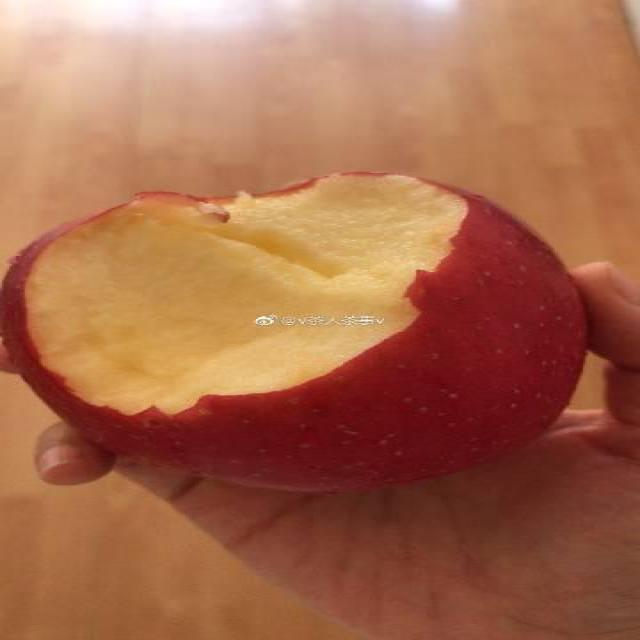Rotten: (0, 167, 591, 507)
